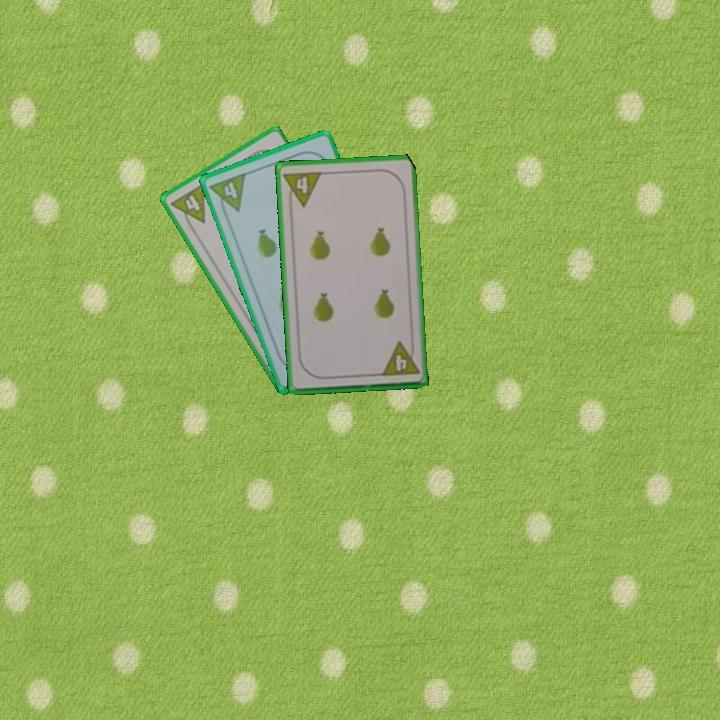4p: (167, 180, 208, 233), (206, 169, 249, 219), (280, 168, 325, 210), (377, 338, 422, 379)
